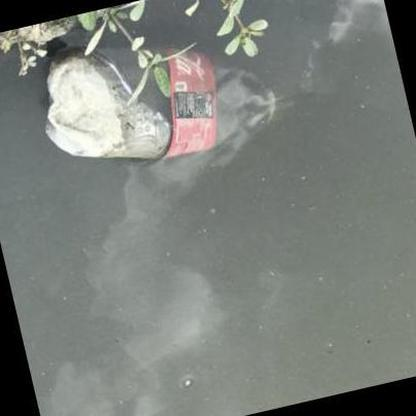plastic bottle: (45, 51, 295, 156)
